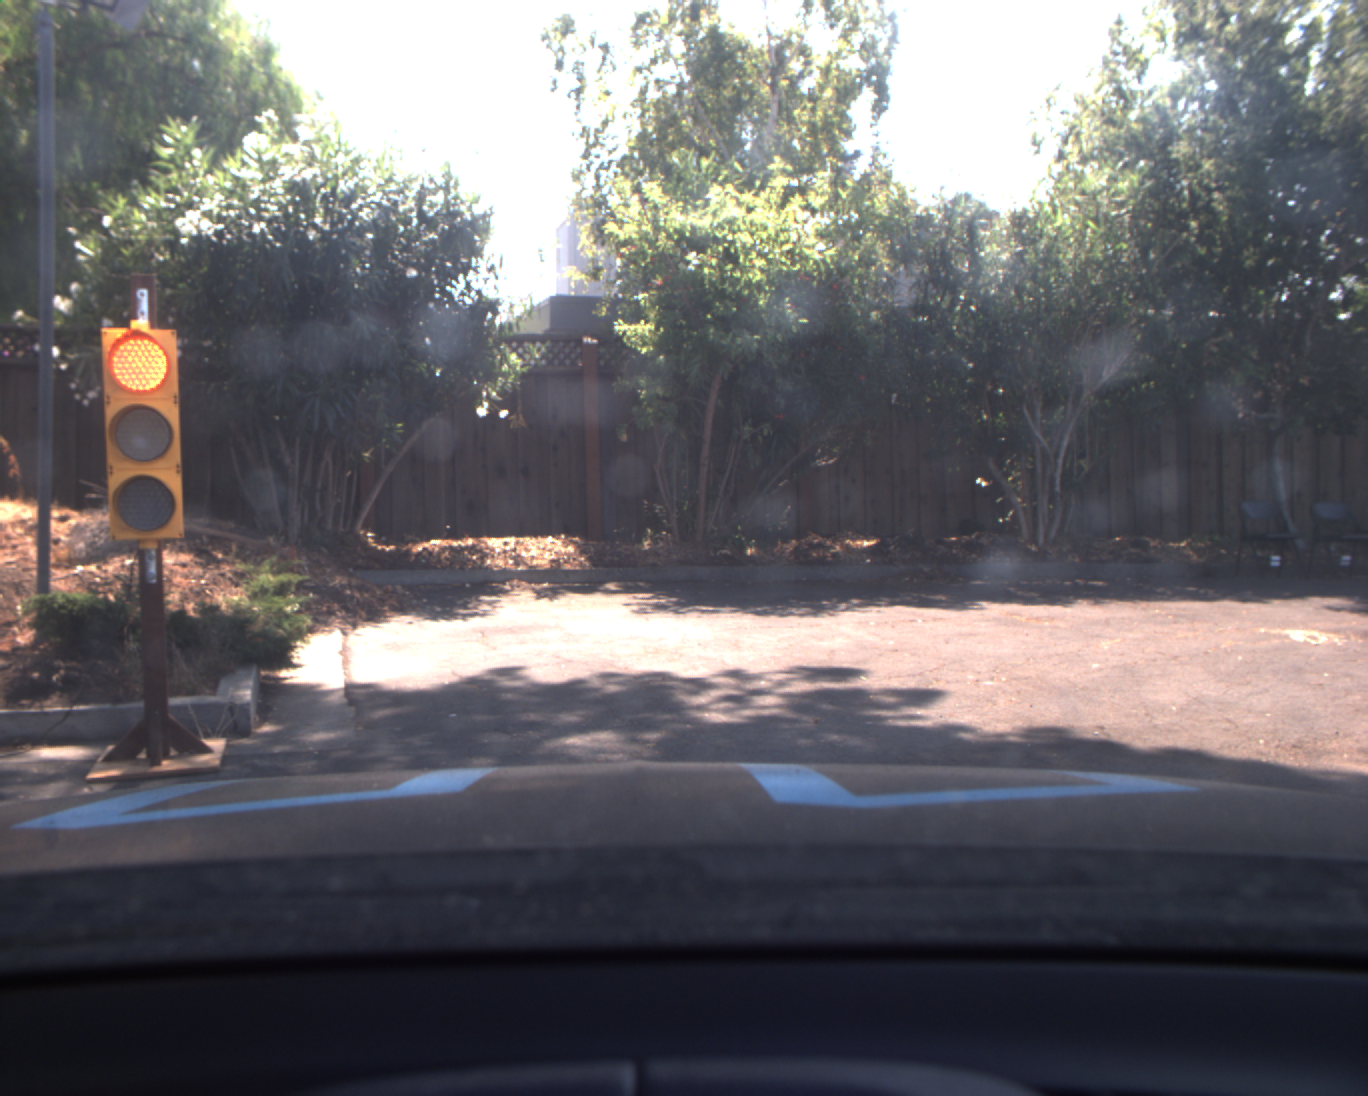red: (98, 318, 189, 548)
